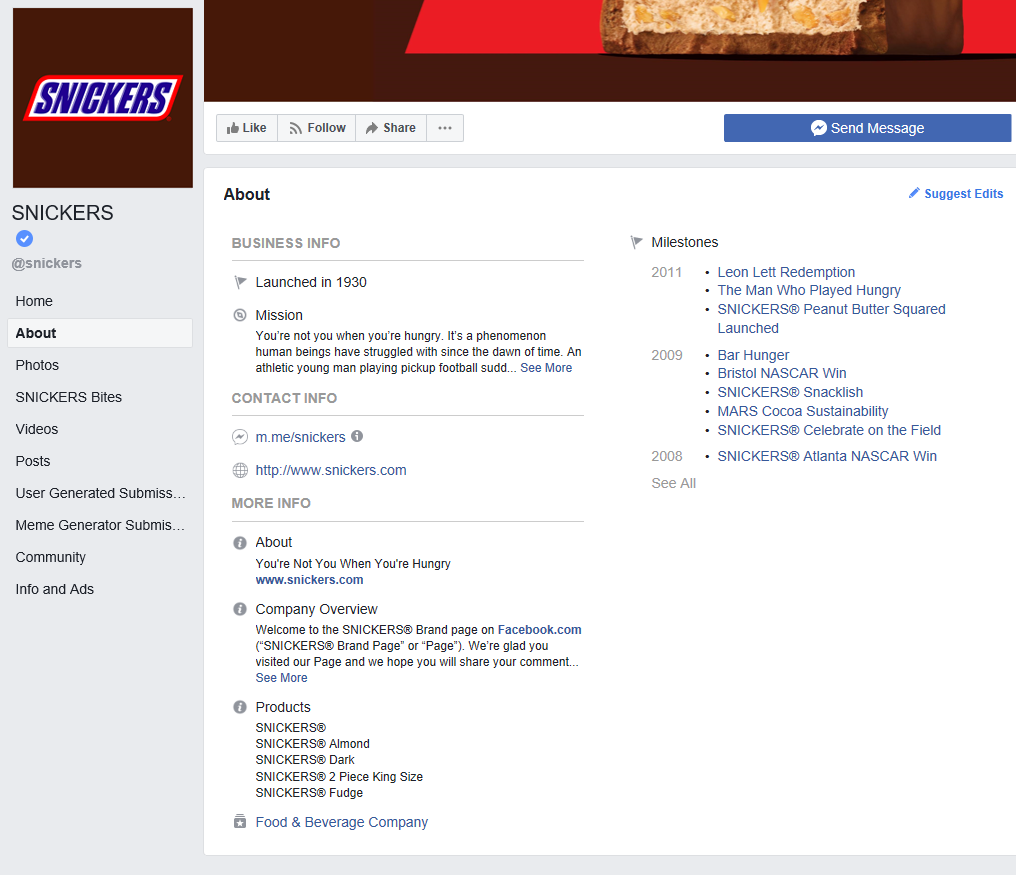snickers: (35, 79, 174, 110)
